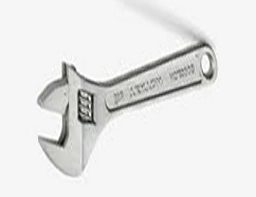wrench: (21, 44, 230, 187)
